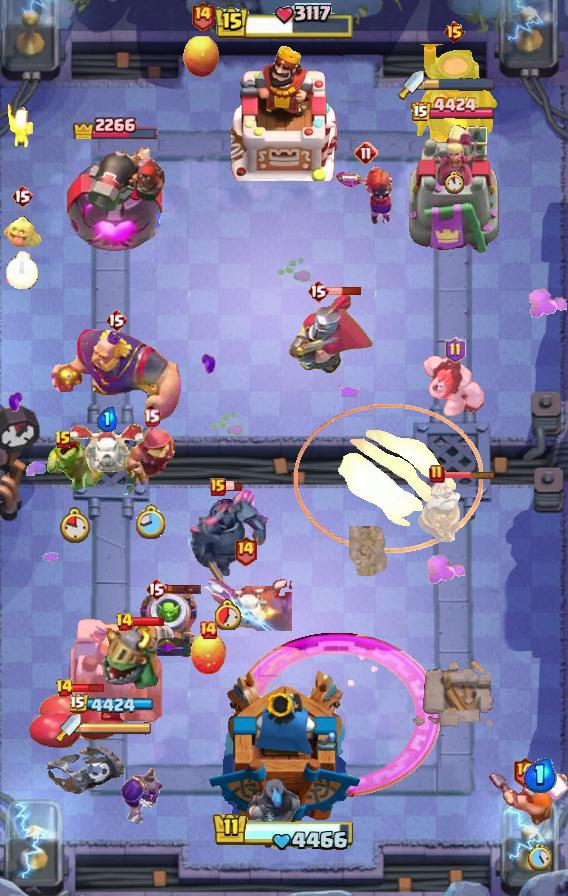bar: (406, 122, 500, 256), (66, 611, 162, 731)
bat-evolution: (2, 212, 42, 250)
clock: (212, 811, 356, 853), (213, 3, 355, 43)
electro-spirit: (523, 758, 556, 793), (96, 406, 118, 432)
elixir: (5, 251, 38, 289), (137, 503, 168, 540), (61, 507, 91, 543), (214, 599, 241, 630), (528, 844, 552, 871), (443, 170, 465, 194)
elixir-collector: (414, 473, 482, 547)
emote: (442, 469, 496, 479), (166, 583, 203, 595), (71, 682, 106, 694), (131, 616, 165, 627), (327, 286, 362, 296), (225, 481, 244, 492)
fireball: (121, 428, 181, 500)
fisherman: (349, 526, 387, 576)
flying-machine: (47, 440, 103, 494)
goblin-ball: (121, 759, 165, 825)
goblin-cage: (137, 590, 201, 660)
golemite: (186, 487, 270, 585)
heal-spirit: (4, 103, 36, 149)
hog: (183, 31, 221, 79), (188, 632, 228, 676)
hunter: (409, 44, 499, 152)
ice-wizard: (294, 403, 483, 553)
inferno-dragon: (245, 774, 301, 850)
king-tower: (207, 669, 361, 826), (231, 43, 337, 181)
king-tower-bar: (424, 77, 496, 91), (81, 721, 153, 735)
knight-evolution: (232, 633, 439, 797)
lightning: (48, 328, 183, 428)
mighty-miner: (488, 771, 568, 833)
mini-pekka: (198, 567, 292, 631), (66, 422, 148, 476)
night-witch: (99, 619, 181, 691)
rage: (422, 354, 488, 418)
royal-recruit-evolution: (26, 692, 128, 800)
selected: (70, 110, 158, 139), (410, 96, 496, 124), (70, 694, 158, 716)
tesla-evolution: (335, 163, 397, 225)
text: (190, 0, 215, 31), (234, 534, 259, 565), (511, 756, 536, 787), (354, 141, 378, 165), (443, 20, 466, 44), (446, 337, 467, 363), (11, 184, 33, 208), (307, 279, 329, 303), (105, 308, 127, 332), (145, 577, 167, 601), (114, 612, 134, 632), (198, 620, 218, 640), (54, 678, 74, 698), (54, 430, 72, 450), (429, 464, 445, 484), (144, 409, 161, 427), (210, 478, 226, 496)
tower-bar: (63, 136, 165, 256)
wall-breaker-evolution: (289, 292, 375, 376)
